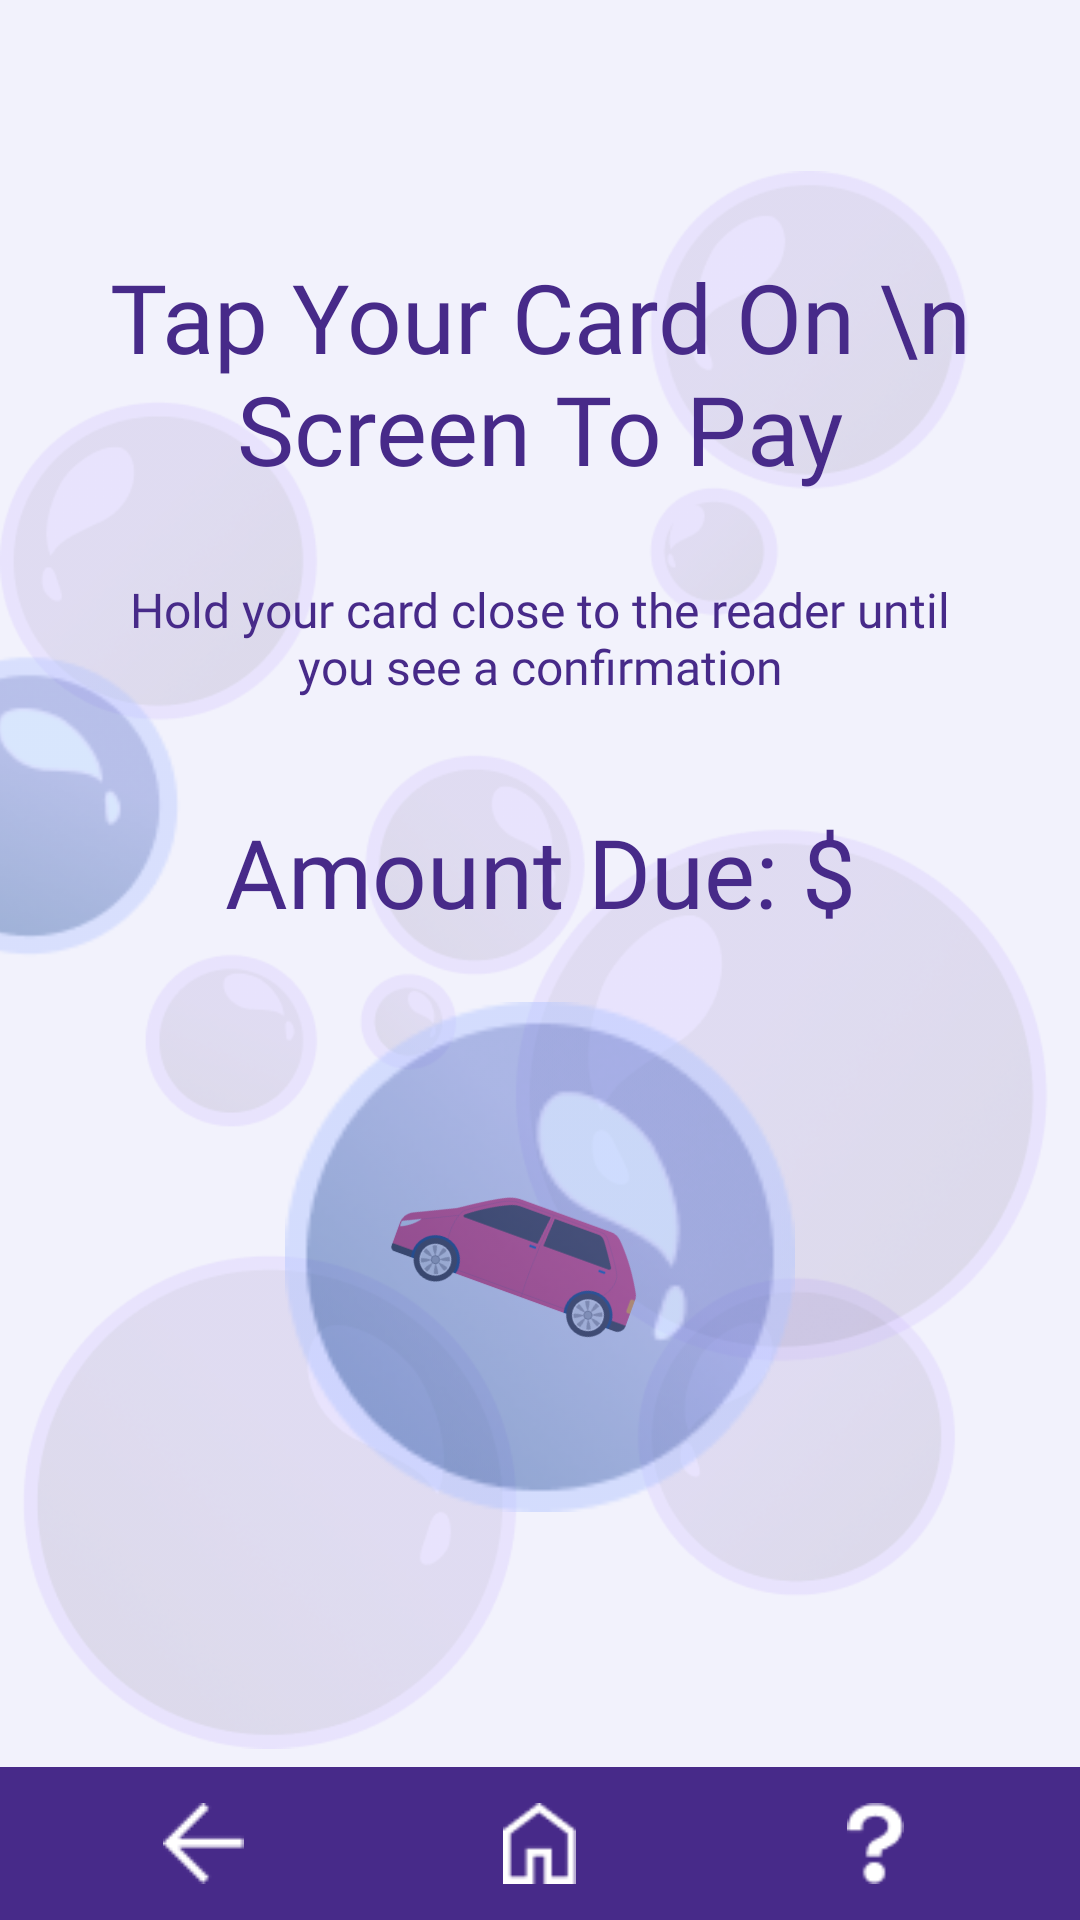

Screen size 1080*1920. Icon name, then its box in pixels as (x1, y1, x2, y2):
Back Button: (163, 1803, 244, 1884)
Help Button: (847, 1803, 904, 1884)
Home Button: (503, 1803, 576, 1884)
